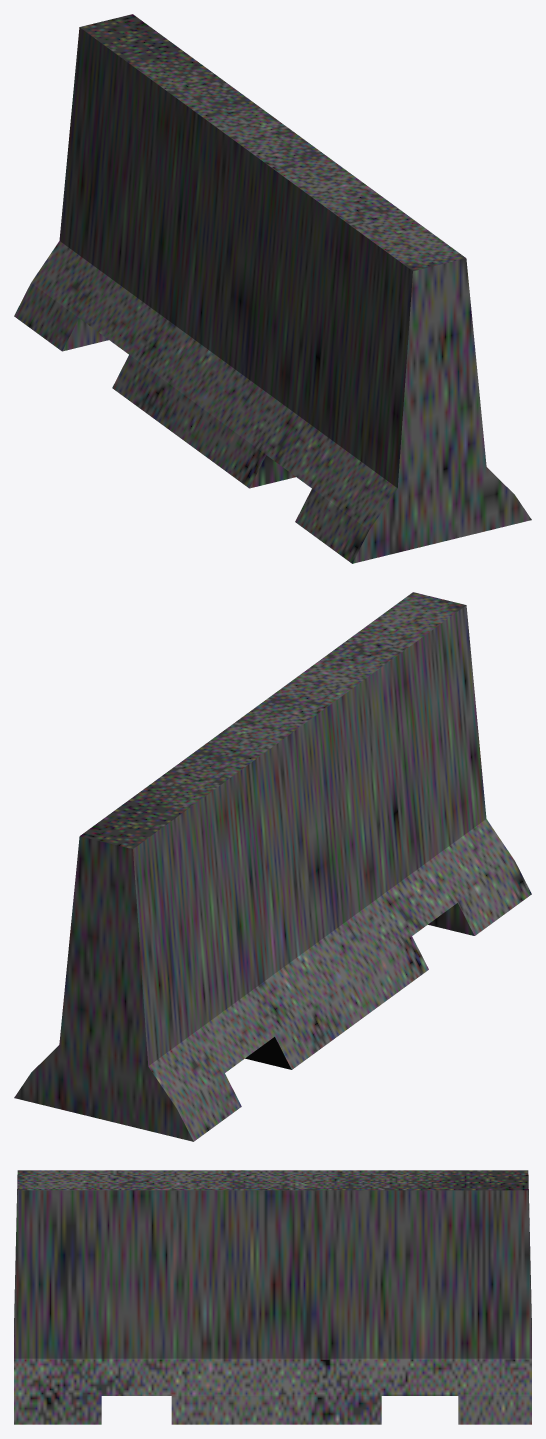
Rendered from streetbarrier.glb.
The picture shows the model from 3 angles, top to bottom: view 1: azimuth 30°, elevation 25°; view 2: azimuth 150°, elevation 25°; view 3: azimuth 270°, elevation 25°; orthographic projection. The views are drawn at different scales.
Parts seen in each view (by area): view 1: ConcreteBarrier.001; view 2: ConcreteBarrier.001; view 3: ConcreteBarrier.001.
Part boxes in pixels (x1,y1,x2,y2): ConcreteBarrier.001: (14, 14, 531, 563); ConcreteBarrier.001: (14, 592, 531, 1141); ConcreteBarrier.001: (14, 1170, 531, 1424).
Size of what is drawn, in the model's own units: 8.02 by 11.74 by 26.13.
1 material, 1 textured.
